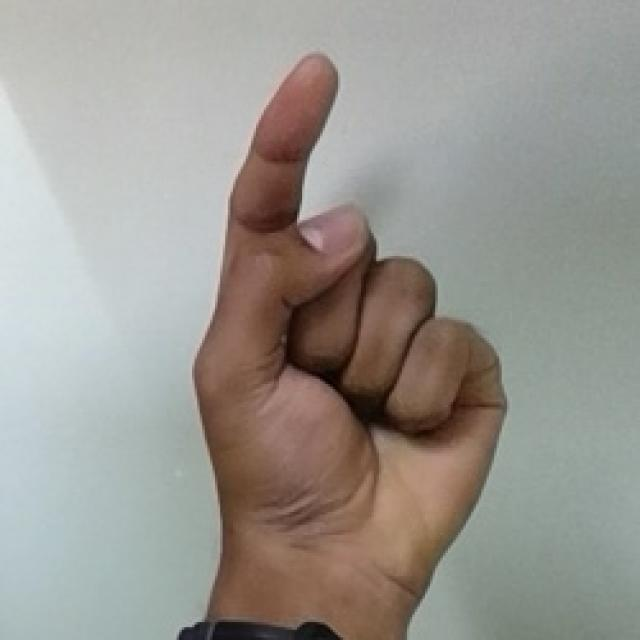Numeric-1: (198, 53, 507, 606)
